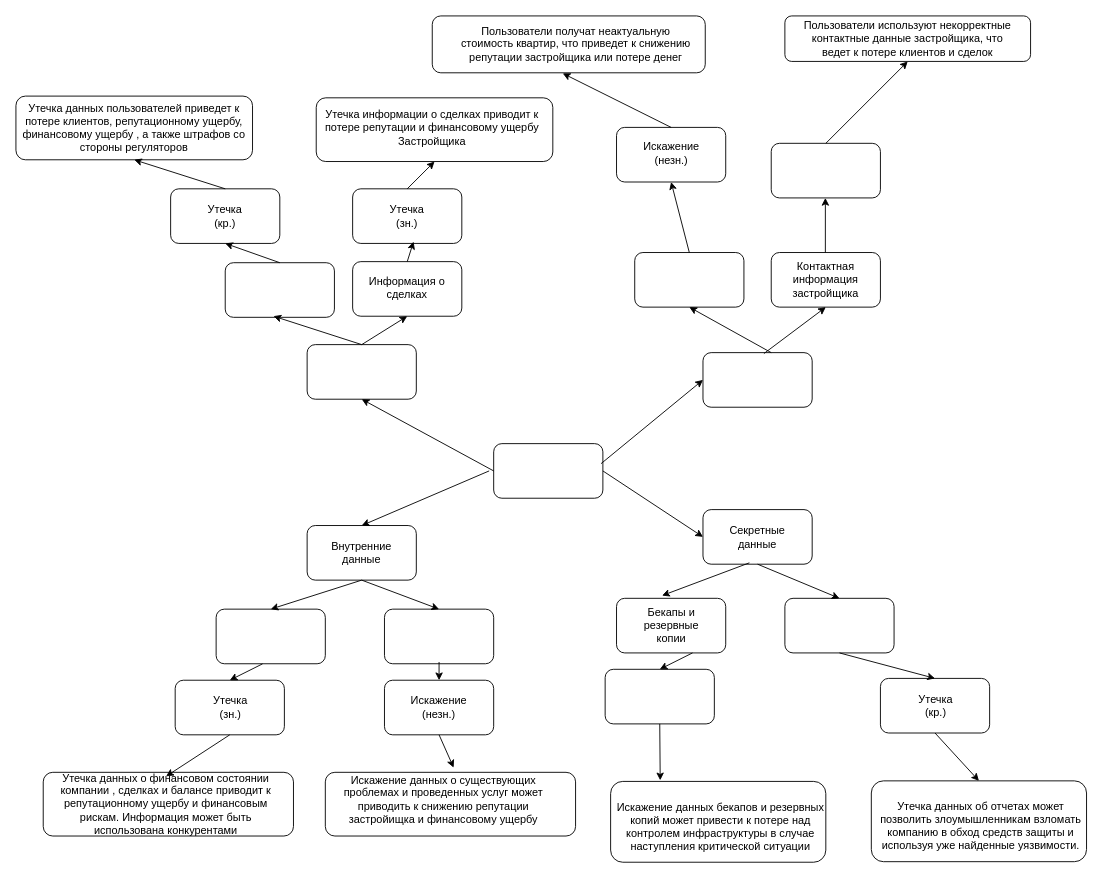
The diagram is 1106 pixels wide and 879 high, and some of its shapes have lost their labels. The centre of each missing label's shape, as x and y in pixels:
"Безопасность данных" goes at (x=548, y=470).
"Данные об проведенных услугах и проблемах ЖКХ" goes at (x=439, y=636).
"Информация о стоимости квартир" goes at (x=689, y=279).
"Искажение (зн.)" goes at (x=825, y=170).
"Искажение (кр.)" goes at (x=659, y=696).
"Конфиденциальные данные" goes at (x=361, y=371).
"Непубличная финансовая отчетность" goes at (x=270, y=636).
"Отчеты по тестированию на проникновение организации" goes at (x=839, y=625).
"Персональные данные клиентов" goes at (x=279, y=289).
"Публичные данные" goes at (x=757, y=379).
